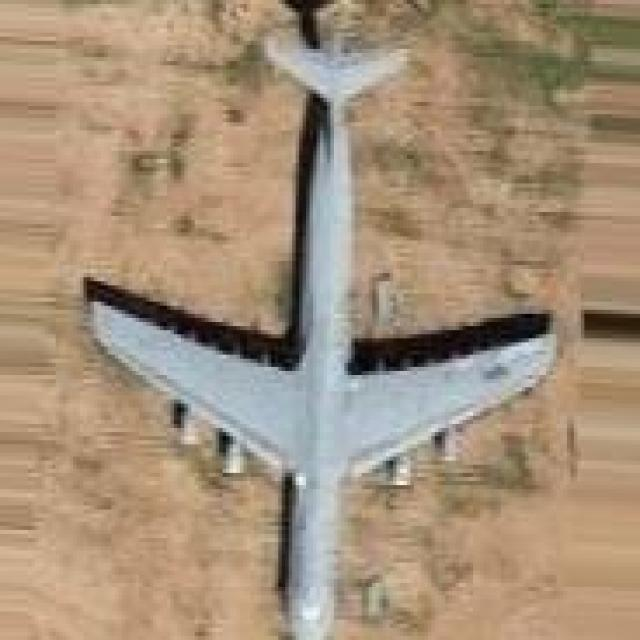C-5_TopDown: (76, 12, 574, 636)
